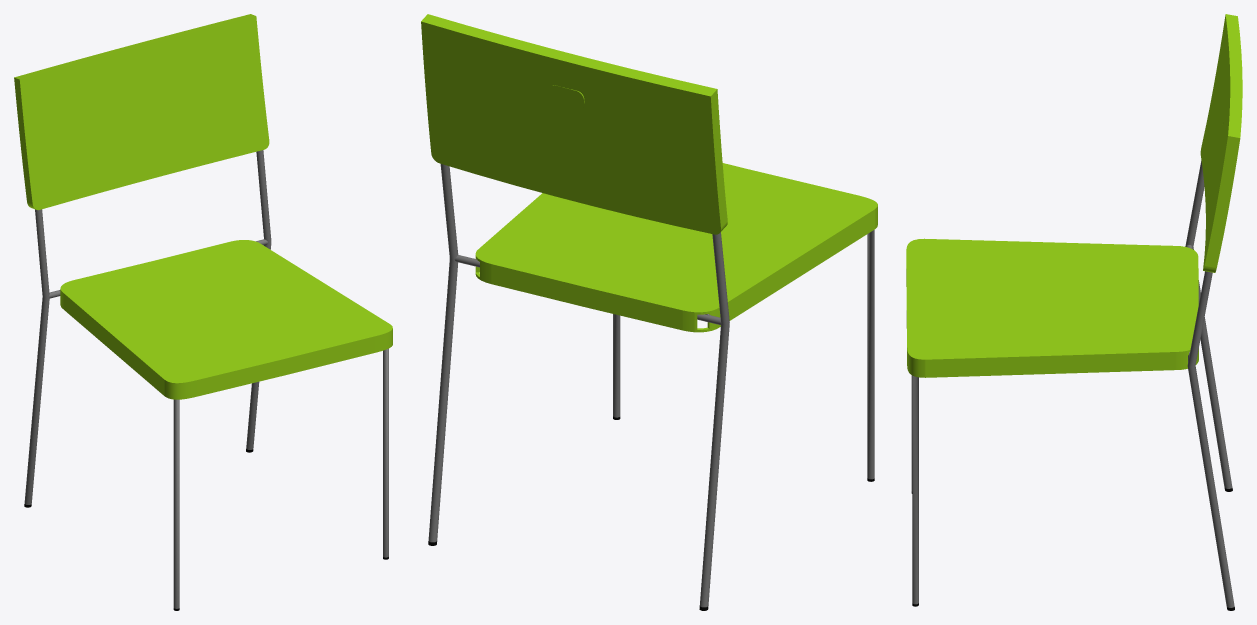
File: IKEA-IKEA_Herman_Chair-3D.DAE
3 renders of one model, left to right at view 1: azimuth 30°, elevation 25°; view 2: azimuth 150°, elevation 25°; view 3: azimuth 270°, elevation 25°, orthographic. The views are drawn at different scales.
Parts seen in each view (by area): view 1: Rectangle01, Loft05; view 2: Rectangle01, Loft05; view 3: Rectangle01, Loft05.
Part boxes in pixels (<box>): Rectangle01: <box>14,14,392,399</box>; Loft05: <box>24,150,388,610</box>; Rectangle01: <box>421,14,877,332</box>; Loft05: <box>428,164,874,610</box>; Rectangle01: <box>906,14,1242,377</box>; Loft05: <box>911,161,1234,610</box>.
Bounding box in the file's own units: 455 × 788 × 504.
